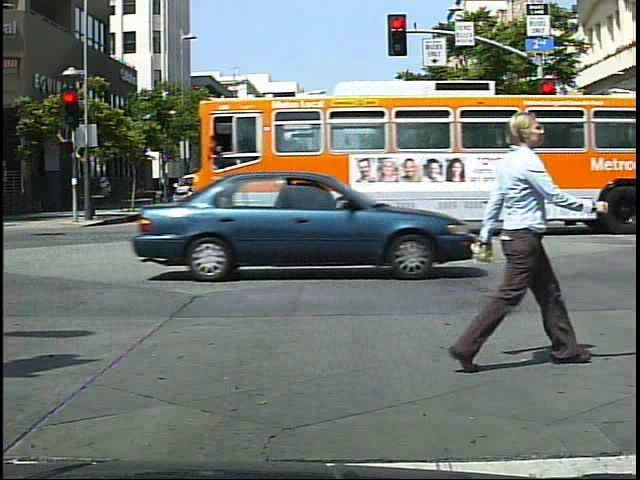person: (449, 96, 595, 398), (314, 164, 346, 228), (223, 166, 252, 233), (308, 166, 338, 230), (549, 160, 572, 211)
